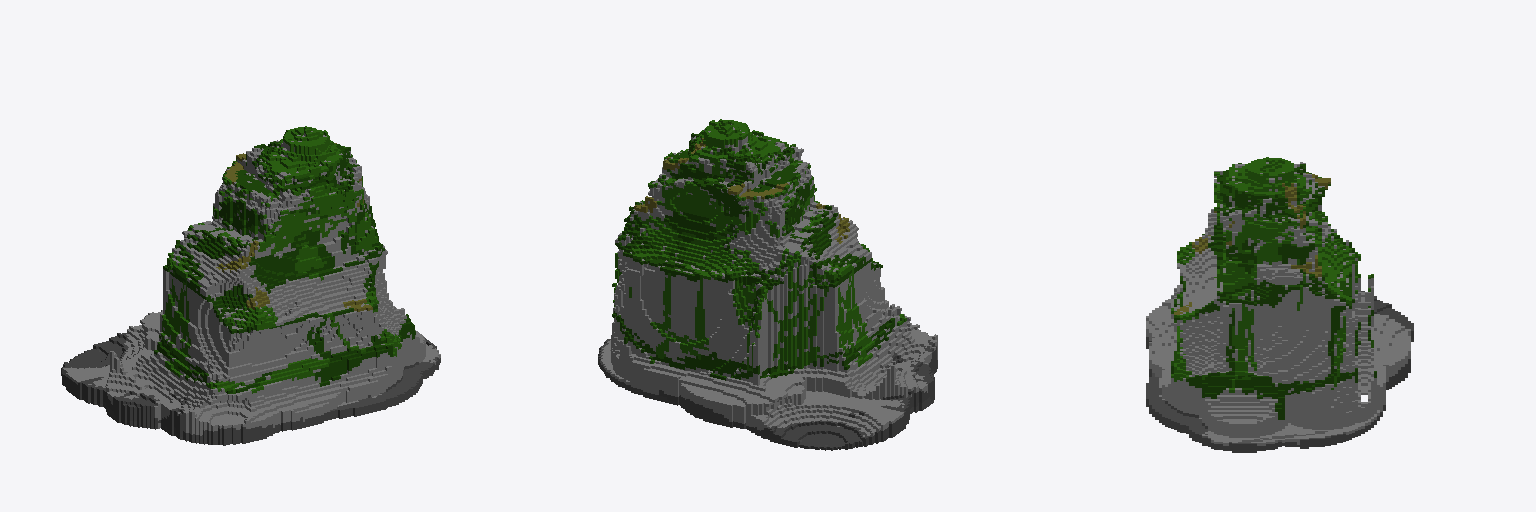
The picture shows the model from 3 angles: view 1: azimuth 30°, elevation 25°; view 2: azimuth 150°, elevation 25°; view 3: azimuth 270°, elevation 25°; orthographic projection.
Visible parts, largest first — view 1: object 1; view 2: object 1; view 3: object 1.
Part boxes in pixels (x1,y1,x2,y2): object 1: (61, 126, 440, 445); object 1: (598, 119, 937, 450); object 1: (1146, 157, 1413, 452).
Size of the model in its own units: 11.8 by 8.6 by 8.7.
Materials: 1 (1 with a texture image).